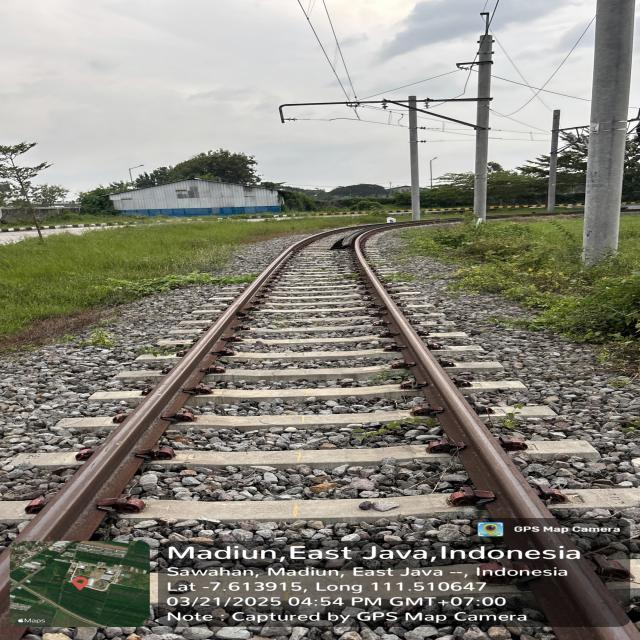rail-detection: (20, 232, 330, 540), (354, 232, 549, 519), (559, 561, 640, 640), (540, 580, 566, 621)
